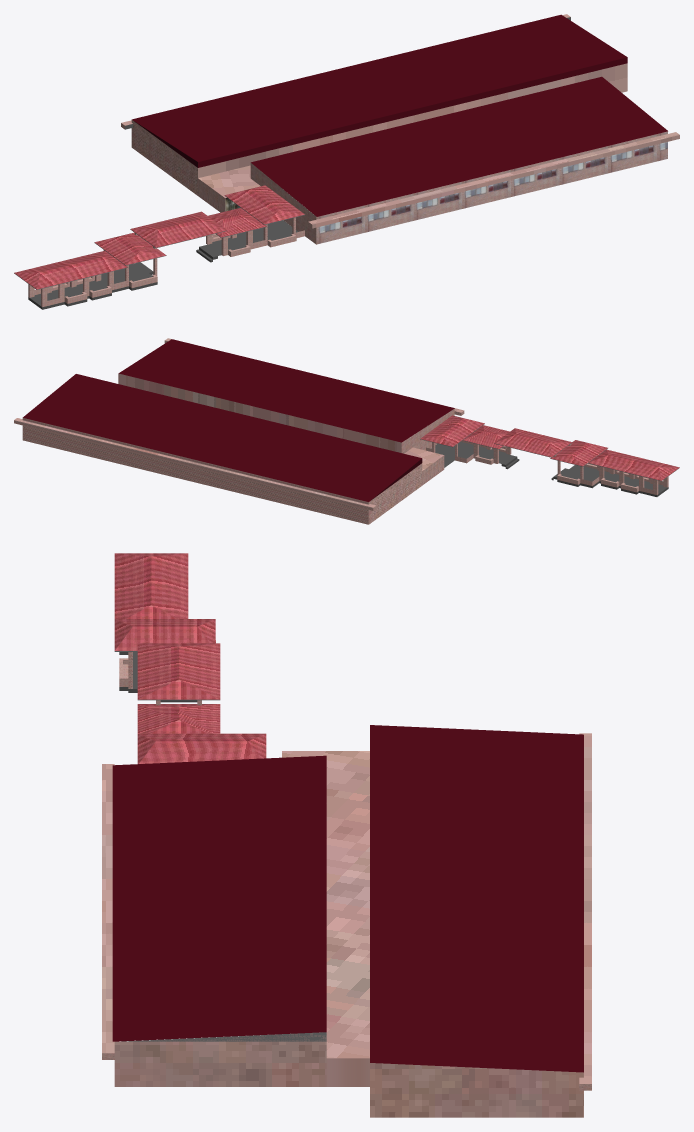
Rendered from Hands-on_building_Tool.obj.
The picture shows the model from 3 angles, top to bottom: view 1: azimuth 30°, elevation 25°; view 2: azimuth 150°, elevation 25°; view 3: azimuth 270°, elevation 25°; orthographic projection. The views are drawn at different scales.
Visible parts, largest first — view 1: VMtl1551, VMtl1557, VMtl1556, VMtl1540, VMtl1634, VMtl1555, VMtl1526, VMtl1562, VMtl1654, VMtl1649, VMtl1508, VMtl1545 (+3 smaller); view 2: VMtl1551, VMtl1555, VMtl1556, VMtl1541, VMtl1550, VMtl1634, VMtl1526, VMtl1654, VMtl1562, VMtl1508, VMtl1649, VMtl1545 (+4 smaller); view 3: VMtl1551, VMtl920, VMtl1544, VMtl1556, VMtl1634, VMtl1526, VMtl1562, VMtl1540, VMtl1541, VMtl1649, VMtl1536, VMtl922 (+2 smaller).
Boxes of the visible parts, x1=… form: VMtl1551: x1=132, y1=14, x2=667, y2=216; VMtl1557: x1=316, y1=131, x2=667, y2=244; VMtl1556: x1=198, y1=63, x2=627, y2=212; VMtl1540: x1=308, y1=132, x2=679, y2=228; VMtl1634: x1=14, y1=250, x2=127, y2=289; VMtl1555: x1=131, y1=120, x2=197, y2=195; VMtl1526: x1=131, y1=211, x2=226, y2=247; VMtl1562: x1=225, y1=185, x2=304, y2=224; VMtl1654: x1=28, y1=262, x2=157, y2=309; VMtl1649: x1=95, y1=232, x2=165, y2=264; VMtl1508: x1=196, y1=220, x2=298, y2=262; VMtl1545: x1=250, y1=163, x2=316, y2=244; VMtl1551: x1=23, y1=339, x2=454, y2=501; VMtl1555: x1=22, y1=418, x2=422, y2=524; VMtl1556: x1=118, y1=378, x2=444, y2=485; VMtl1541: x1=14, y1=411, x2=464, y2=510; VMtl1550: x1=118, y1=373, x2=401, y2=447; VMtl1634: x1=589, y1=449, x2=679, y2=480; VMtl1526: x1=494, y1=428, x2=571, y2=457; VMtl1654: x1=551, y1=465, x2=668, y2=496; VMtl1562: x1=420, y1=415, x2=484, y2=446; VMtl1508: x1=431, y1=441, x2=519, y2=469; VMtl1649: x1=550, y1=440, x2=607, y2=466; VMtl1545: x1=401, y1=409, x2=454, y2=453; VMtl1551: x1=112, y1=725, x2=583, y2=1072; VMtl920: x1=326, y1=781, x2=369, y2=1058; VMtl1544: x1=370, y1=1063, x2=583, y2=1117; VMtl1556: x1=114, y1=1041, x2=326, y2=1086; VMtl1634: x1=114, y1=553, x2=188, y2=618; VMtl1526: x1=137, y1=643, x2=220, y2=699; VMtl1562: x1=137, y1=733, x2=266, y2=763; VMtl1540: x1=102, y1=764, x2=114, y2=1059; VMtl1541: x1=579, y1=733, x2=591, y2=1090; VMtl1649: x1=114, y1=619, x2=215, y2=650; VMtl1536: x1=137, y1=704, x2=220, y2=733; VMtl922: x1=282, y1=751, x2=369, y2=781.
Size of the model in its own units: 165 by 9.05 by 64.22.
65 materials, 44 textured.
